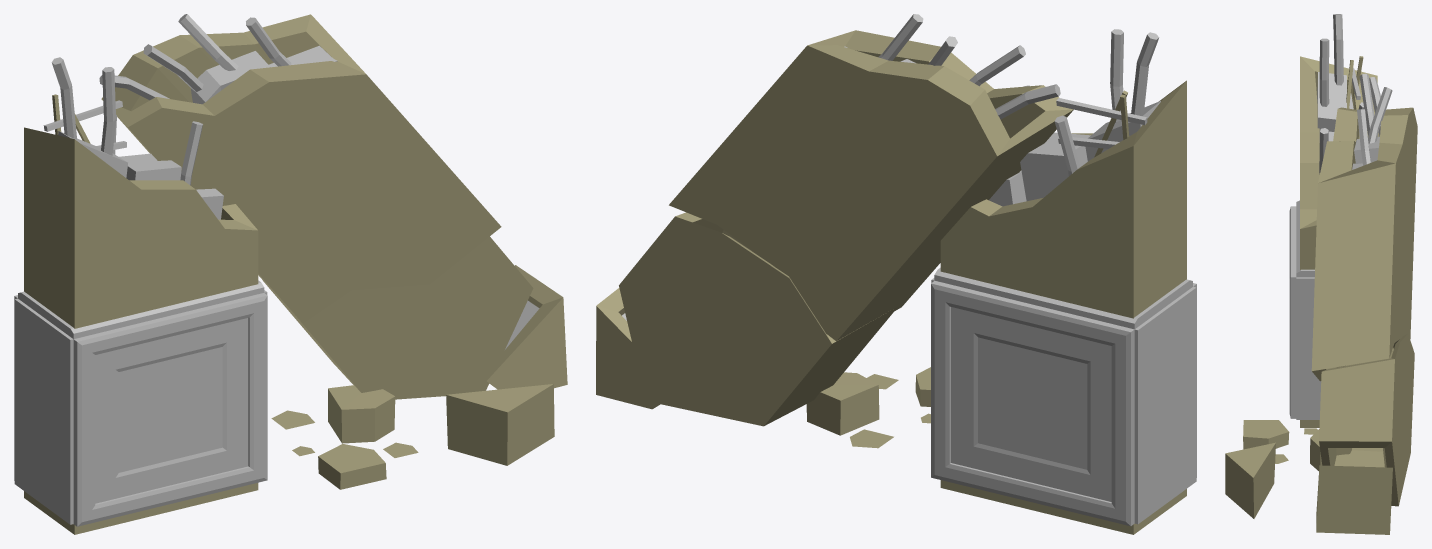
The model's file is PillarDestroyed.fbx.
3 views of the same model, side by side, from view 1: azimuth 30°, elevation 25°; view 2: azimuth 150°, elevation 25°; view 3: azimuth 270°, elevation 25° (orthographic). The views are drawn at different scales.
Parts seen in each view (by area): view 1: PillarDestroyed; view 2: PillarDestroyed; view 3: PillarDestroyed.
Part boxes in pixels (<box>): PillarDestroyed: <box>14,14,567,534</box>; PillarDestroyed: <box>596,14,1196,534</box>; PillarDestroyed: <box>1225,14,1417,534</box>.
Bounding box in the file's own units: 402 × 343 × 172.
